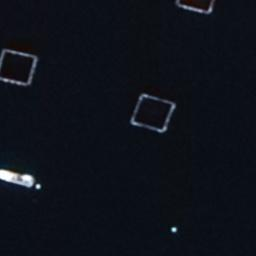square_solid: (127, 89, 179, 140), (1, 43, 42, 89), (171, 1, 220, 18)
